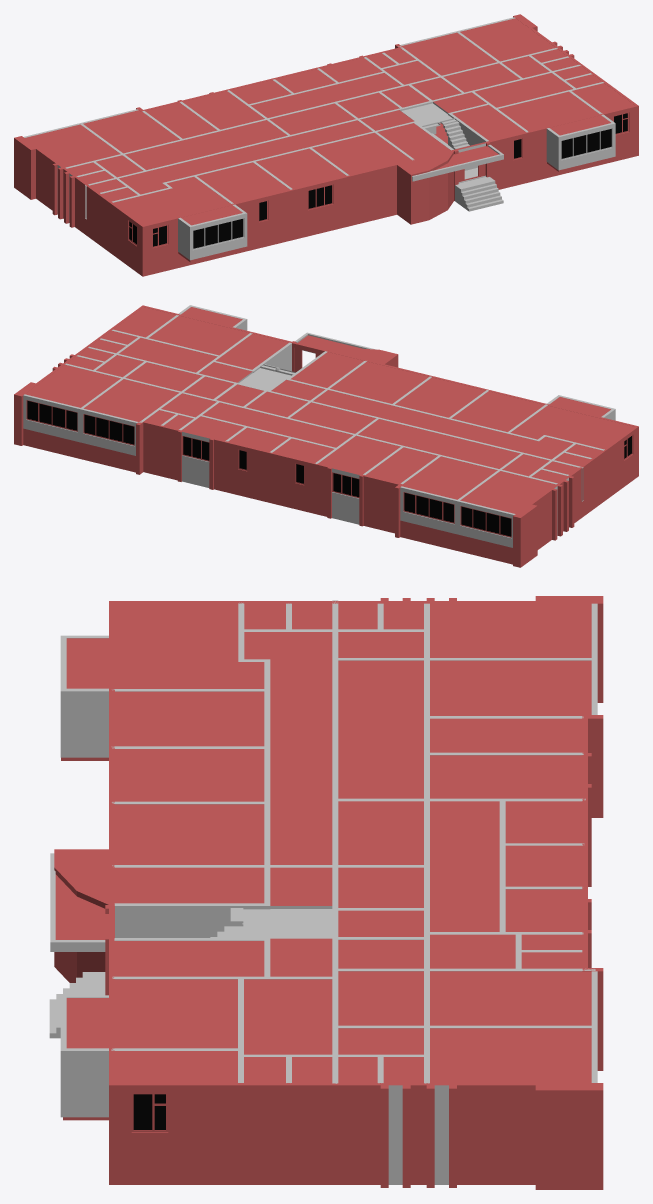
File: SM_house_section_6.fbx
3 renders of one model, top to bottom at view 1: azimuth 30°, elevation 25°; view 2: azimuth 150°, elevation 25°; view 3: azimuth 270°, elevation 25°, orthographic. The views are drawn at different scales.
Parts seen in each view (by area): view 1: Cube; view 2: Cube; view 3: Cube.
Part boxes in pixels (x1=…): Cube: x1=14, y1=14, x2=638, y2=276; Cube: x1=14, y1=305, x2=638, y2=567; Cube: x1=49, y1=596, x2=603, y2=1189.
Bounding box in the file's own units: 3994 × 384 × 1891.
